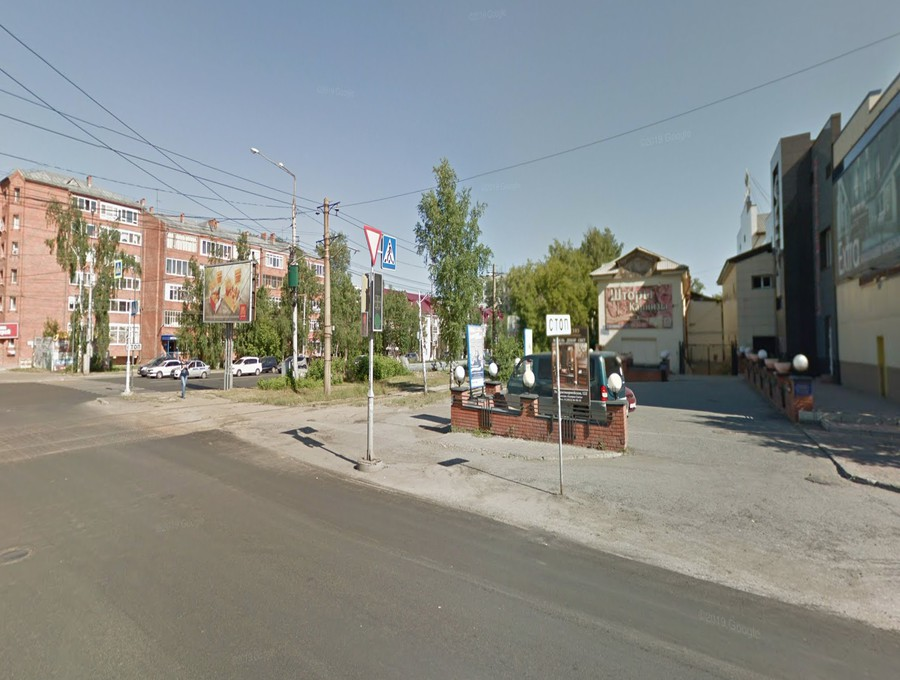Traffic Light-red: (360, 312, 372, 339)
